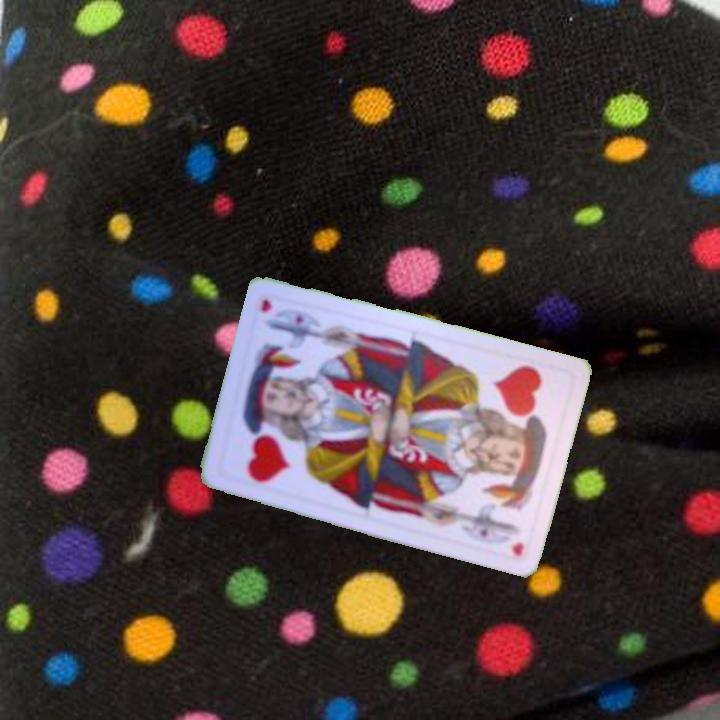h_j.png: (466, 351, 574, 469), (214, 381, 322, 498)
